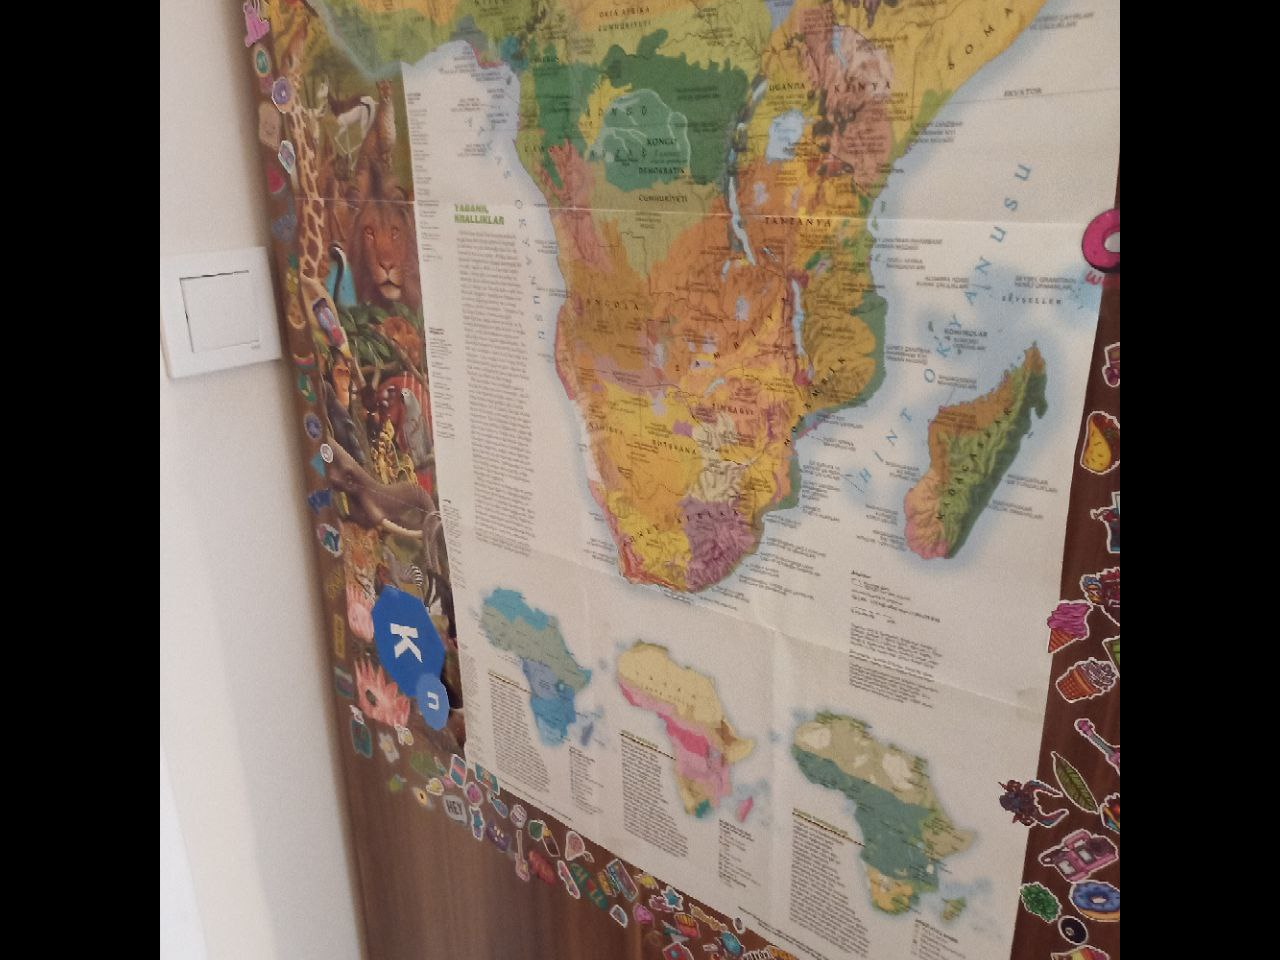knative: (371, 587, 452, 731)
